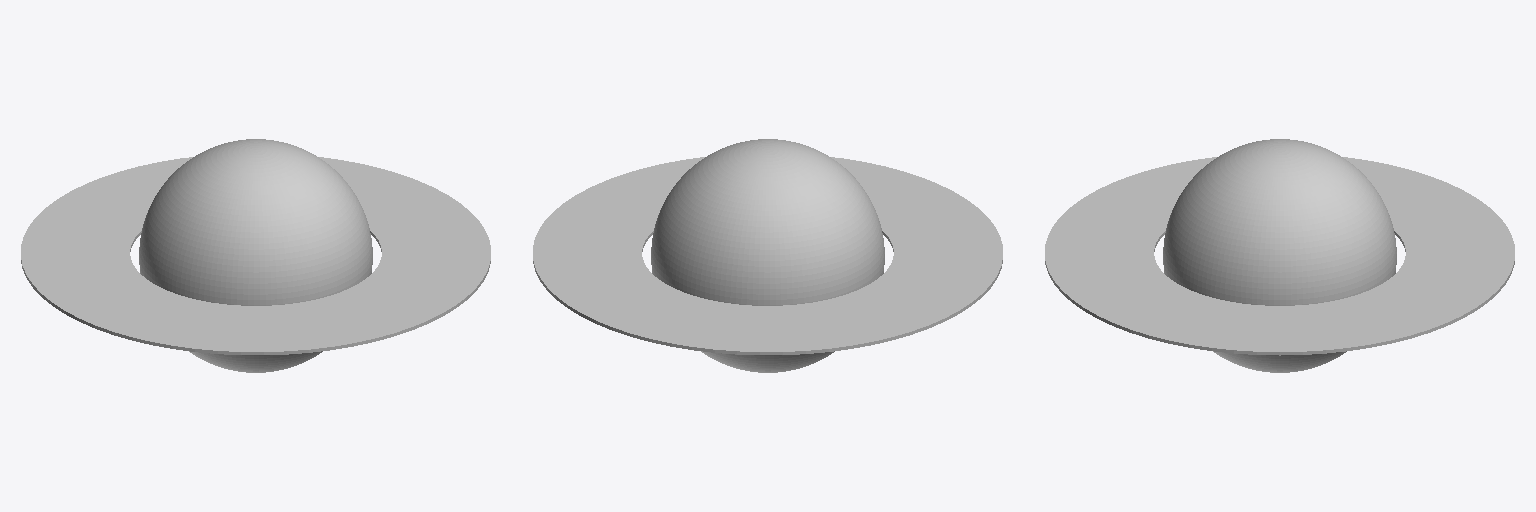
File: saturn3.obj
3 renders of one model, left to right at view 1: azimuth 30°, elevation 25°; view 2: azimuth 150°, elevation 25°; view 3: azimuth 270°, elevation 25°, orthographic.
Parts seen in each view (by area): view 1: Kugel; view 2: Kugel; view 3: Kugel.
Boxes of the visible parts, <box> form: Kugel: <box>21,139,490,372</box>; Kugel: <box>533,139,1002,372</box>; Kugel: <box>1045,139,1514,372</box>.
Size of the model in its own units: 4.72 by 2.34 by 4.72.